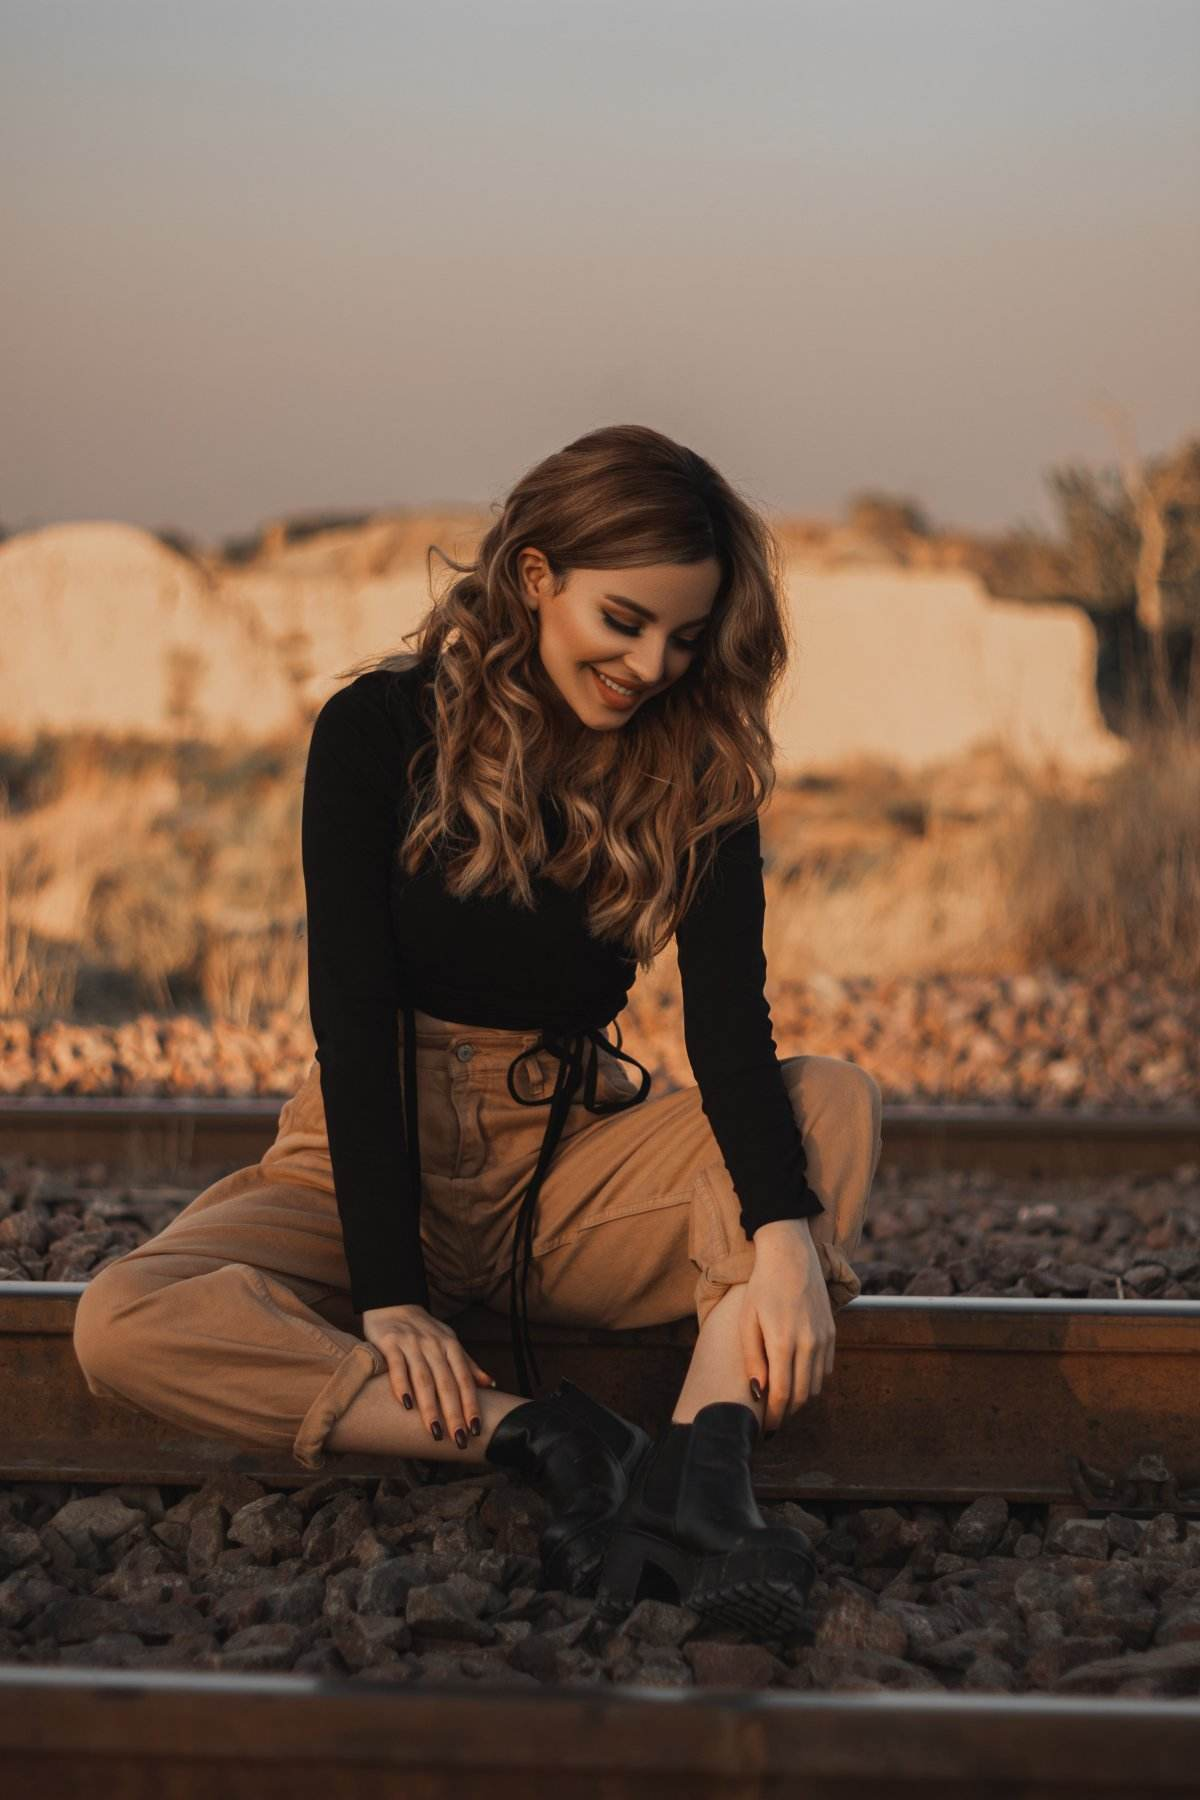person: (329, 419, 902, 1698)
